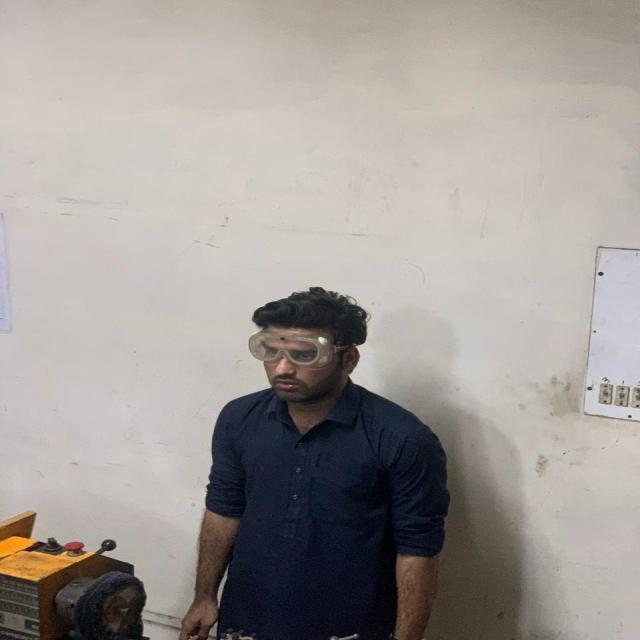googles: (242, 328, 338, 368)
